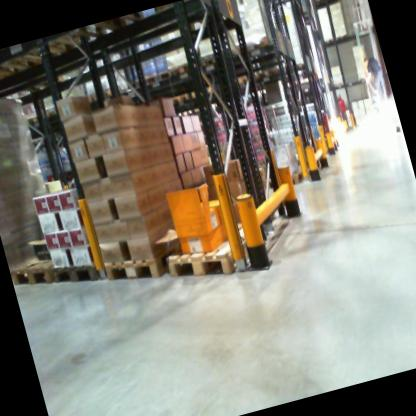pallet: (159, 204, 270, 288), (99, 225, 196, 289), (61, 10, 152, 54), (7, 247, 66, 298), (0, 36, 62, 84), (47, 253, 104, 293), (167, 56, 204, 87), (251, 60, 287, 84), (0, 48, 21, 88), (132, 71, 160, 94), (164, 88, 192, 108), (154, 64, 173, 88)
